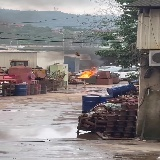fire: (77, 67, 97, 78)
